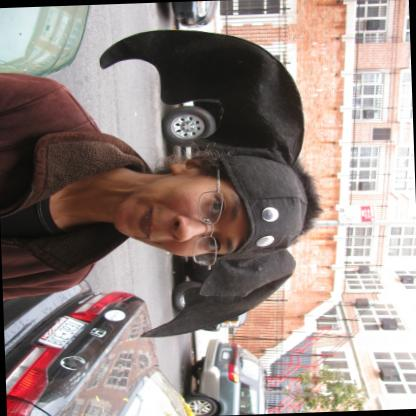Car: (3, 273, 200, 416), (168, 98, 254, 334), (180, 324, 271, 416), (0, 3, 97, 77), (171, 0, 222, 29)
